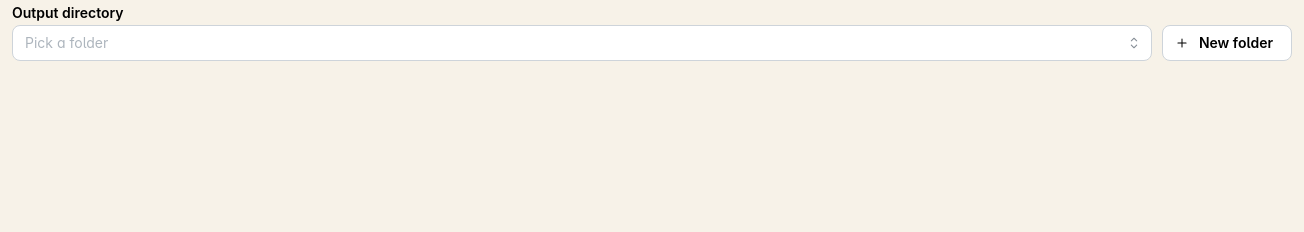
Test: DirectoryPicker create validation › shows a sentence-case error on blank folder name and skips the request
This screenshot has width=1304, height=232.
What coordinates should you click on to do the following:
click the button "New folder"
I would click on:
 (1227, 43)
Its box is 1162,25 -> 1292,61.
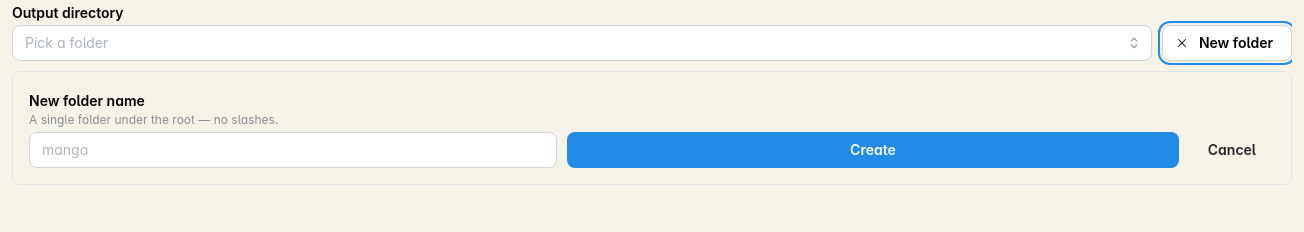
What coordinates should you click on to do the following:
click the button "Create"
I would click on:
 (873, 150)
Its box is 567,132 -> 1179,168.
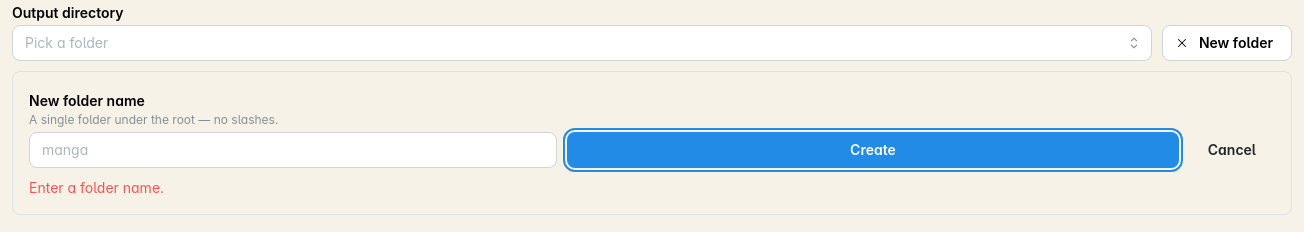
Result: the text "Enter a folder name." is shown at 29,179 -> 164,196
